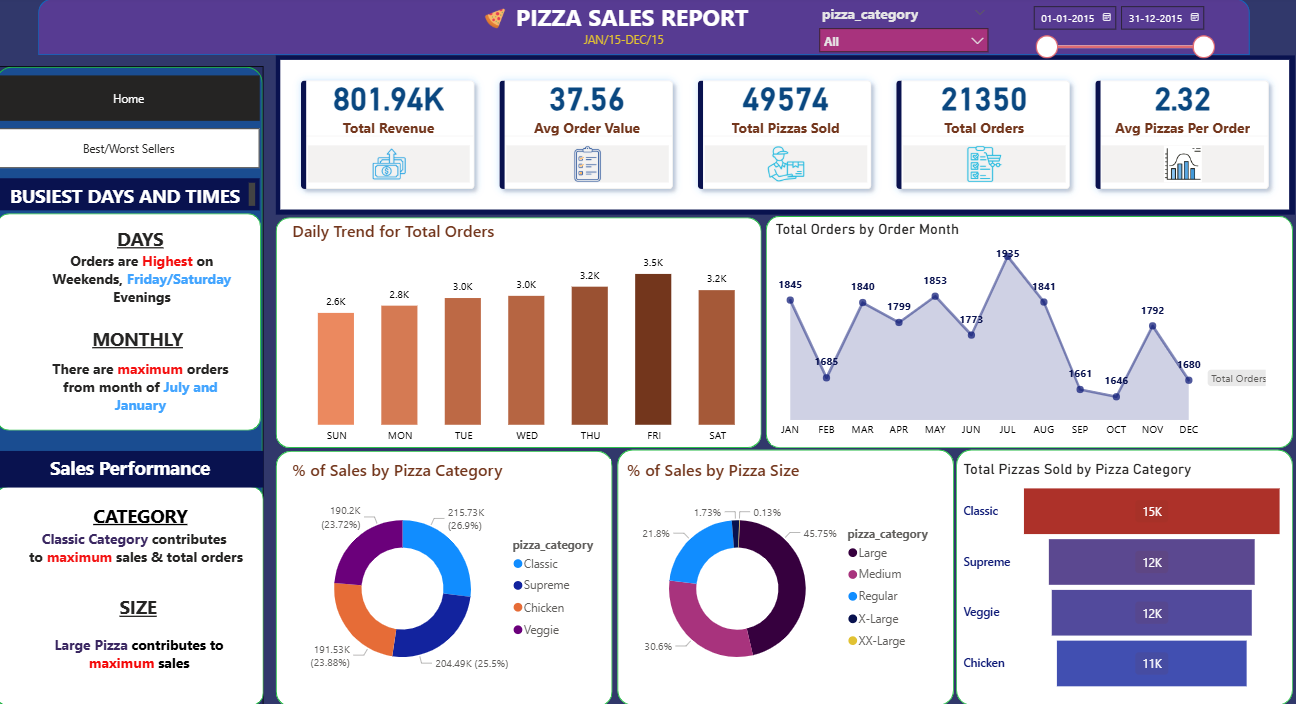

What the dashboard file says about the page in this screenshot:
{"tool":"powerbi","page":{"name":"Home","canvas":[1500,820],"ordinal":0},"visuals":[{"type":"cardVisual","fields":{"Data":["pizza_sales.Total Revenue","pizza_sales.Avg Order Value","pizza_sales.Total Pizzas Sold","pizza_sales.Total Orders","pizza_sales.Avg Pizzas Per Order"]},"box":[323.9,68.5,1175.7,183.8],"z":0},{"type":"shape","box":[324.2,255.5,560.2,265.9],"z":0,"group":"g2"},{"type":"shape","box":[324.2,256.2,560.2,265.9],"z":0,"group":"g1"},{"type":"shape","box":[0,80.3,309.9,739.7],"z":1000},{"type":"clusteredColumnChart","title":"Daily Trend for Total Orders","fields":{"Y":["pizza_sales.Total Orders"],"Category":["pizza_sales.Order Day"]},"box":[337.8,258.8,551.7,265.9],"z":1000,"group":"g2"},{"type":"clusteredColumnChart","title":"Daily Trend for Total Orders","fields":{"Y":["pizza_sales.Total Orders"],"Category":["pizza_sales.Order Day"]},"box":[337.8,259.5,551.7,265.9],"z":1000,"group":"g1"},{"type":"shape","box":[50,2.5,1397.5,65],"z":2000},{"type":"shape","box":[889.6,253.9,607.9,267.5],"z":2000,"group":"g2"},{"type":"shape","box":[889.6,254.6,607.9,267.5],"z":2000,"group":"g1"},{"type":"textbox","box":[588.2,0,292.5,49],"z":3000},{"type":"areaChart","fields":{"Category":["pizza_sales.Order Month"],"Y":["pizza_sales.Total Orders"]},"box":[896.4,258.8,575.6,259.4],"z":3000,"group":"g2"},{"type":"areaChart","fields":{"Category":["pizza_sales.Order Month"],"Y":["pizza_sales.Total Orders"]},"box":[896.4,259.5,575.6,259.4],"z":3000,"group":"g1"},{"type":"textbox","box":[659.4,36.4,132.8,34.8],"z":4000},{"type":"shape","box":[1109.2,524,388.3,295.3],"z":4000,"group":"g2"},{"type":"shape","box":[1109.2,524.7,388.3,295.3],"z":4000,"group":"g1"},{"type":"image","box":[558.2,14.2,37.9,23.7],"z":5000},{"type":"shape","box":[717.6,524,388.3,295.3],"z":5000,"group":"g2"},{"type":"shape","box":[717.6,524.7,388.3,295.3],"z":5000,"group":"g1"},{"type":"shape","box":[2.2,251.8,305.2,250.7],"z":6000,"group":"g3"},{"type":"group","id":"g1","title":"Group 1","box":[324.2,254.6,1173.3,566.1],"z":6000},{"type":"shape","box":[324.2,524.7,388.3,295.3],"z":6000,"group":"g2"},{"type":"shape","box":[324.2,525.4,388.3,295.3],"z":6000,"group":"g1"},{"type":"shape","box":[0,565.7,309.9,253.8],"z":6000,"group":"g4"},{"type":"group","id":"g2","title":"Group 1","box":[324.2,253.9,1173.3,566.1],"z":7000},{"type":"donutChart","title":"% of Sales by Pizza Category","fields":{"Category":["pizza_sales.pizza_category"],"Y":["pizza_sales.Total Revenue"]},"box":[337.8,534.5,372.9,274.1],"z":7000,"group":"g2"},{"type":"donutChart","title":"% of Sales by Pizza Category","fields":{"Category":["pizza_sales.pizza_category"],"Y":["pizza_sales.Total Revenue"]},"box":[337.8,535.2,372.9,274.1],"z":7000,"group":"g1"},{"type":"group","id":"g3","title":"Group 2","box":[2.2,210.6,305.2,291.9],"z":8000},{"type":"textbox","box":[2.2,210.6,303.7,37.4],"z":8000,"group":"g3"},{"type":"textbox","box":[1.6,524.8,308.3,42],"z":8000,"group":"g4"},{"type":"donutChart","title":"% of Sales by Pizza Size","fields":{"Y":["pizza_sales.Total Revenue"],"Category":["pizza_sales.pizza_size"]},"box":[724.4,534.5,372.9,274.1],"z":8000,"group":"g2"},{"type":"donutChart","title":"% of Sales by Pizza Size","fields":{"Y":["pizza_sales.Total Revenue"],"Category":["pizza_sales.pizza_size"]},"box":[724.4,535.2,372.9,274.1],"z":8000,"group":"g1"},{"type":"group","id":"g4","title":"Group 2","box":[0,524.8,309.9,294.7],"z":9000},{"type":"funnel","title":"Total Pizzas Sold by Pizza Category","fields":{"Category":["pizza_sales.pizza_category"],"Y":["pizza_sales.Total Pizzas Sold"]},"box":[1112.6,536.1,379.7,272.4],"z":9000,"group":"g2"},{"type":"funnel","title":"Total Pizzas Sold by Pizza Category","fields":{"Category":["pizza_sales.pizza_category"],"Y":["pizza_sales.Total Pizzas Sold"]},"box":[1112.6,536.8,379.7,272.4],"z":9000,"group":"g1"},{"type":"slicer","fields":{"Values":["pizza_sales.pizza_category"]},"box":[940.6,4.7,214.9,62.3],"z":10000},{"type":"slicer","fields":{"Values":["pizza_sales.order_date"]},"box":[1185,1.6,230.5,77.9],"z":11000},{"type":"textbox","box":[57.7,290.5,223.3,77.6],"z":11000,"group":"g3"},{"type":"textbox","box":[24.1,610.9,274,77.3],"z":11000,"group":"g4"},{"type":"pageNavigator","box":[3.1,152.6,302.1,46.7],"z":12000},{"type":"textbox","box":[100.9,376.2,129.6,38.1],"z":12000,"group":"g3"},{"type":"textbox","box":[56.2,414.3,223.3,77.6],"z":13000,"group":"g3"},{"type":"textbox","box":[101.2,685.2,127.7,38.9],"z":13000},{"type":"textbox","box":[54.7,732.5,223.3,77.2],"z":13000,"group":"g4"},{"type":"pageNavigator","box":[3.1,91.9,302.1,52.9],"z":14000},{"type":"textbox","box":[103.8,260.5,129.6,38.1],"z":14000,"group":"g3"},{"type":"textbox","box":[102.3,579.5,129.6,37.9],"z":14000,"group":"g4"}]}

Visuals, with their boxes in screenshot pixels (x1, y1, x2, y2), scaled from the page's 1500x820 canvas onto the 1296x704 screenshot:
cardVisual - pizza_sales.Total Revenue x pizza_sales.Avg Order Value: [280, 59, 1295, 217]
shape: [280, 219, 764, 448]
shape: [280, 220, 764, 448]
shape: [0, 69, 268, 703]
"Daily Trend for Total Orders" clusteredColumnChart: [292, 222, 769, 450]
"Daily Trend for Total Orders" clusteredColumnChart: [292, 223, 769, 451]
shape: [43, 2, 1251, 58]
shape: [769, 218, 1294, 448]
shape: [769, 219, 1294, 448]
textbox: [508, 0, 761, 42]
areaChart - pizza_sales.Order Month x pizza_sales.Total Orders: [774, 222, 1272, 445]
areaChart - pizza_sales.Order Month x pizza_sales.Total Orders: [774, 223, 1272, 445]
textbox: [570, 31, 684, 61]
shape: [958, 450, 1294, 703]
shape: [958, 450, 1294, 703]
image: [482, 12, 515, 33]
shape: [620, 450, 955, 703]
shape: [620, 450, 955, 703]
shape: [2, 216, 266, 431]
"Group 1" group: [280, 219, 1294, 703]
shape: [280, 450, 616, 703]
shape: [280, 451, 616, 703]
shape: [0, 486, 268, 703]
"Group 1" group: [280, 218, 1294, 703]
"% of Sales by Pizza Category" donutChart: [292, 459, 614, 694]
"% of Sales by Pizza Category" donutChart: [292, 459, 614, 695]
"Group 2" group: [2, 181, 266, 431]
textbox: [2, 181, 264, 213]
textbox: [1, 451, 268, 487]
"% of Sales by Pizza Size" donutChart: [626, 459, 948, 694]
"% of Sales by Pizza Size" donutChart: [626, 459, 948, 695]
"Group 2" group: [0, 451, 268, 703]
"Total Pizzas Sold by Pizza Category" funnel: [961, 460, 1289, 694]
"Total Pizzas Sold by Pizza Category" funnel: [961, 461, 1289, 695]
slicer - pizza_sales.pizza_category: [813, 4, 998, 58]
slicer - pizza_sales.order_date: [1024, 1, 1223, 68]
textbox: [50, 249, 243, 316]
textbox: [21, 524, 258, 591]
pageNavigator: [3, 131, 264, 171]
textbox: [87, 323, 199, 356]
textbox: [49, 356, 241, 422]
textbox: [87, 588, 198, 622]
textbox: [47, 629, 240, 695]
pageNavigator: [3, 79, 264, 124]
textbox: [90, 224, 202, 256]
textbox: [88, 498, 200, 530]
